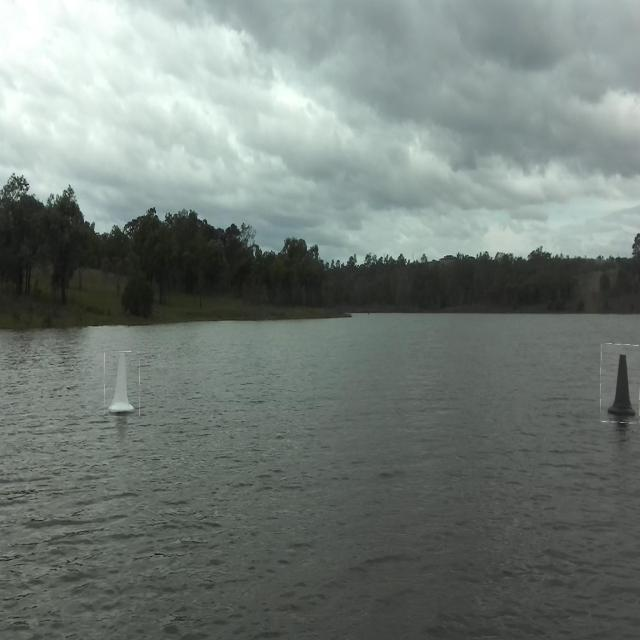Black_Buoy: (602, 344, 634, 424)
White_Buoy: (107, 348, 137, 412)
